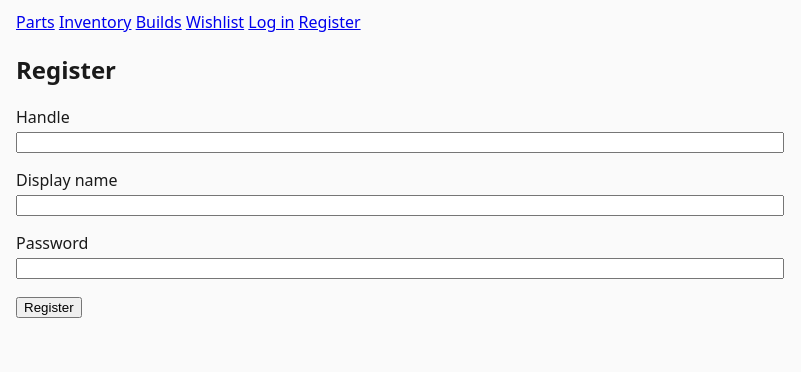
Scenario: Register page › shows the handle message and sends nothing for a handle with an empty value
Type "mot-de-passe-test" into the password field labelled "Password" at (400, 268), box [16,258,784,279]
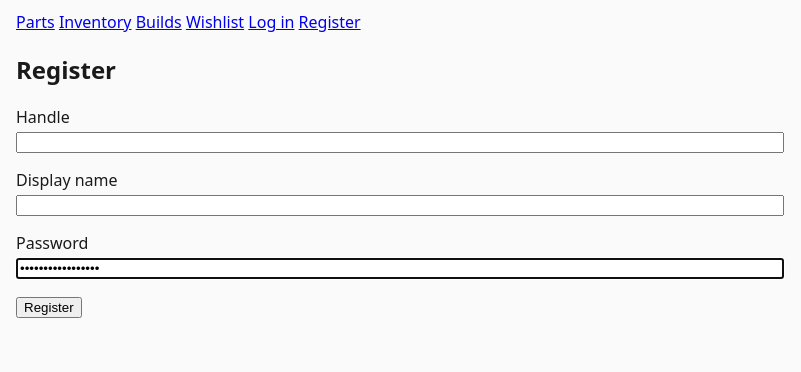
Click the button "Register" at (49, 307), box [16,297,82,318]
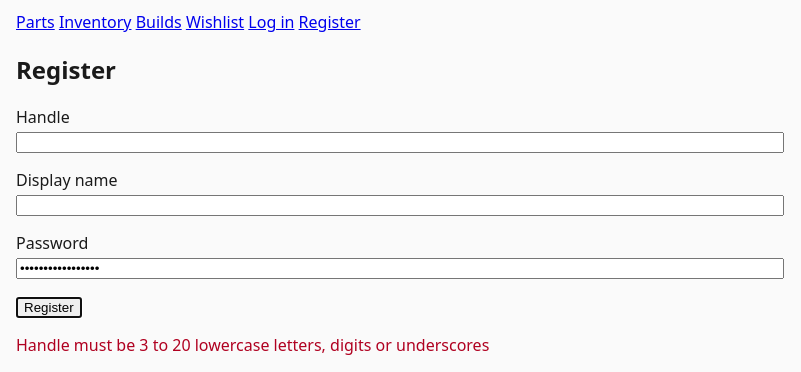
Expected: the heading "Register" is shown, [16,53,116,86]
Result: the message reads "Handle must be 3 to 20 lowercase letters, digits or underscores" at [16,334,489,356]
